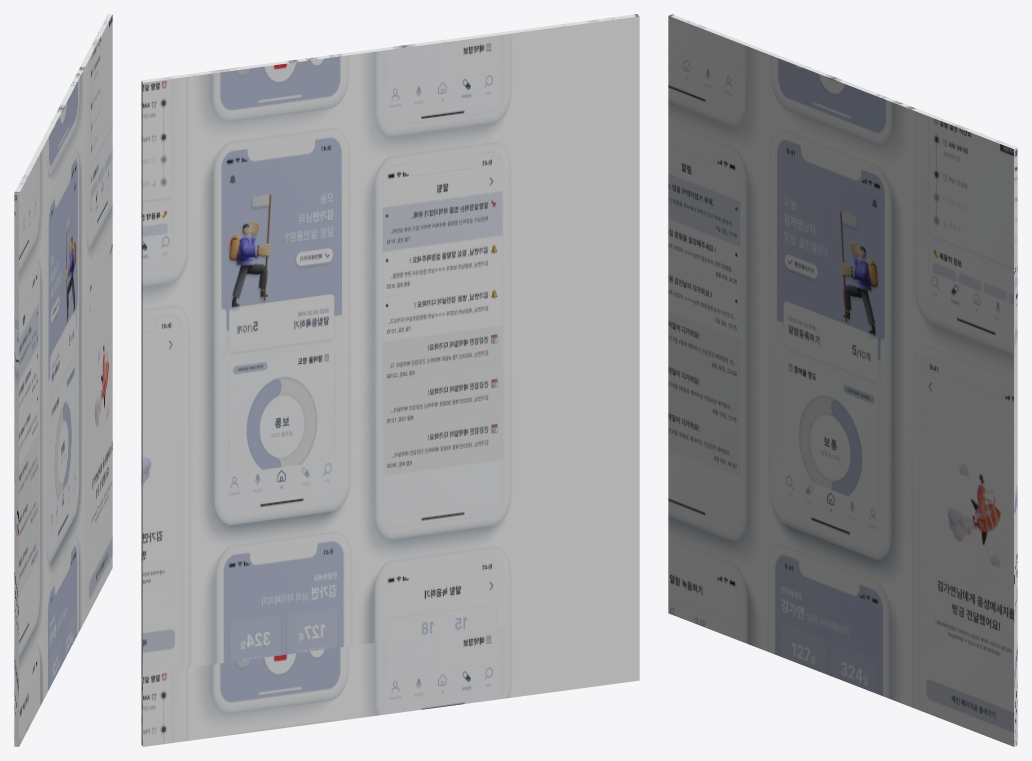
The model's file is Work03_02.glb.
3 renders of one model, left to right at view 1: azimuth 30°, elevation 25°; view 2: azimuth 150°, elevation 25°; view 3: azimuth 270°, elevation 25°, orthographic. The views are drawn at different scales.
Visible parts, largest first — view 1: Cube.135; view 2: Cube.135; view 3: Cube.135.
Part boxes in pixels (box(x1,y1,x2,y2)): Cube.135: box(14, 14, 112, 746); Cube.135: box(141, 14, 639, 746); Cube.135: box(668, 14, 1017, 746).
Size of the model in its own units: 0.7638 by 1.57 by 0.8334.
1 material, 1 textured.
